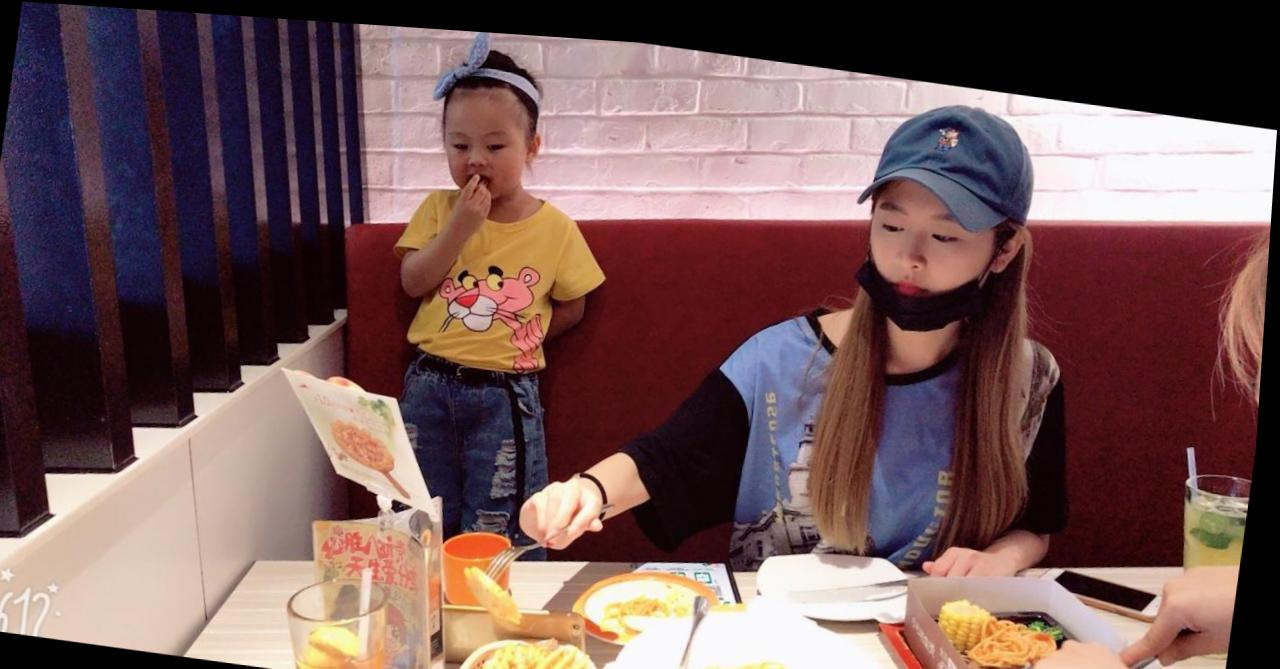NONE: (443, 113, 537, 199)
WRONG: (857, 187, 994, 324)
